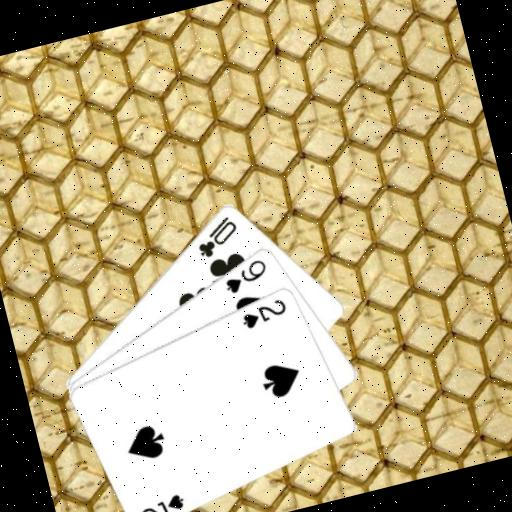10C: (189, 211, 244, 262)
2S: (235, 294, 291, 332), (134, 488, 189, 512)
9S: (218, 255, 273, 297)
